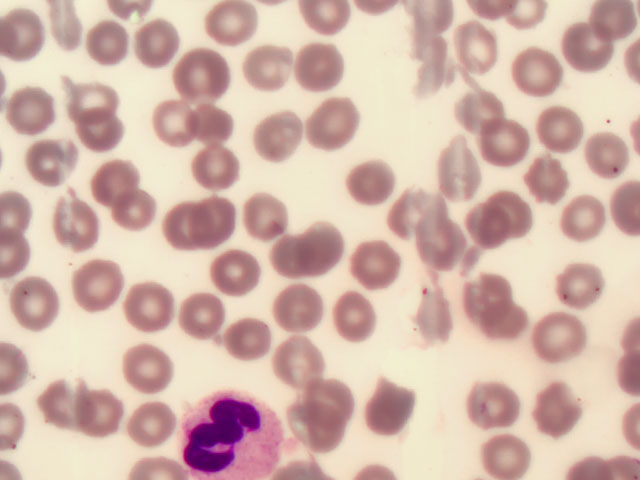RBC: (14, 86, 62, 135), (67, 69, 115, 118), (77, 111, 125, 160), (87, 19, 135, 68), (129, 14, 177, 63), (179, 51, 227, 100), (189, 94, 237, 143), (154, 101, 202, 150), (187, 140, 235, 189), (254, 107, 302, 156), (243, 42, 291, 91), (292, 40, 340, 89), (310, 100, 358, 149), (342, 156, 390, 205), (305, 224, 353, 273), (266, 234, 314, 283), (246, 187, 294, 236), (209, 196, 257, 245), (168, 200, 216, 249), (109, 184, 157, 233), (95, 161, 143, 210), (53, 198, 101, 247), (24, 133, 72, 182), (13, 282, 61, 331), (78, 253, 126, 302), (124, 285, 172, 334), (183, 291, 231, 340), (223, 311, 271, 360), (205, 247, 253, 296), (280, 285, 328, 334), (331, 288, 379, 337), (354, 244, 402, 293), (390, 190, 438, 239), (430, 228, 478, 277), (439, 150, 487, 199), (474, 121, 522, 170), (458, 86, 506, 135), (450, 21, 498, 70), (512, 47, 560, 96), (565, 23, 613, 72), (581, 130, 629, 179), (537, 105, 585, 154), (522, 160, 570, 209), (491, 190, 539, 239), (455, 207, 503, 256), (561, 197, 609, 246), (559, 261, 607, 310), (536, 309, 584, 358), (531, 383, 579, 432), (470, 386, 518, 435), (487, 431, 535, 480), (475, 297, 523, 346), (467, 266, 515, 315), (420, 288, 468, 337), (378, 376, 426, 425), (313, 369, 361, 418), (295, 389, 343, 438), (279, 334, 327, 383), (131, 348, 179, 397), (130, 402, 178, 451), (82, 388, 130, 437), (40, 376, 88, 425), (205, 1, 253, 49), (305, 1, 353, 49), (588, 1, 636, 49), (1, 9, 48, 58)
WBC: (178, 389, 281, 480)
